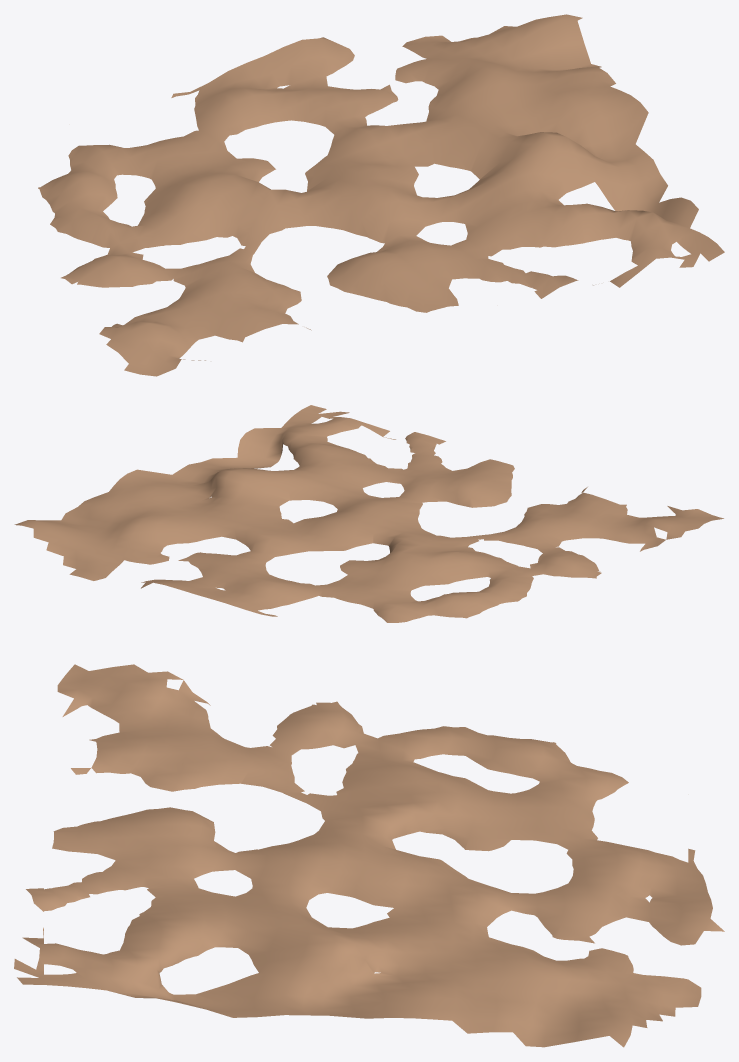
Rendered from seaground.glb.
3 renders of one model, top to bottom at view 1: azimuth 30°, elevation 25°; view 2: azimuth 150°, elevation 25°; view 3: azimuth 270°, elevation 25°, orthographic. The views are drawn at different scales.
Parts seen in each view (by area): view 1: Plane; view 2: Plane; view 3: Plane.
Boxes of the visible parts, x1,y1,x2,y2 form: Plane: (38, 14, 724, 376); Plane: (14, 405, 723, 622); Plane: (14, 664, 724, 1047).
Size of the model in its own units: 169 by 10.03 by 132.
